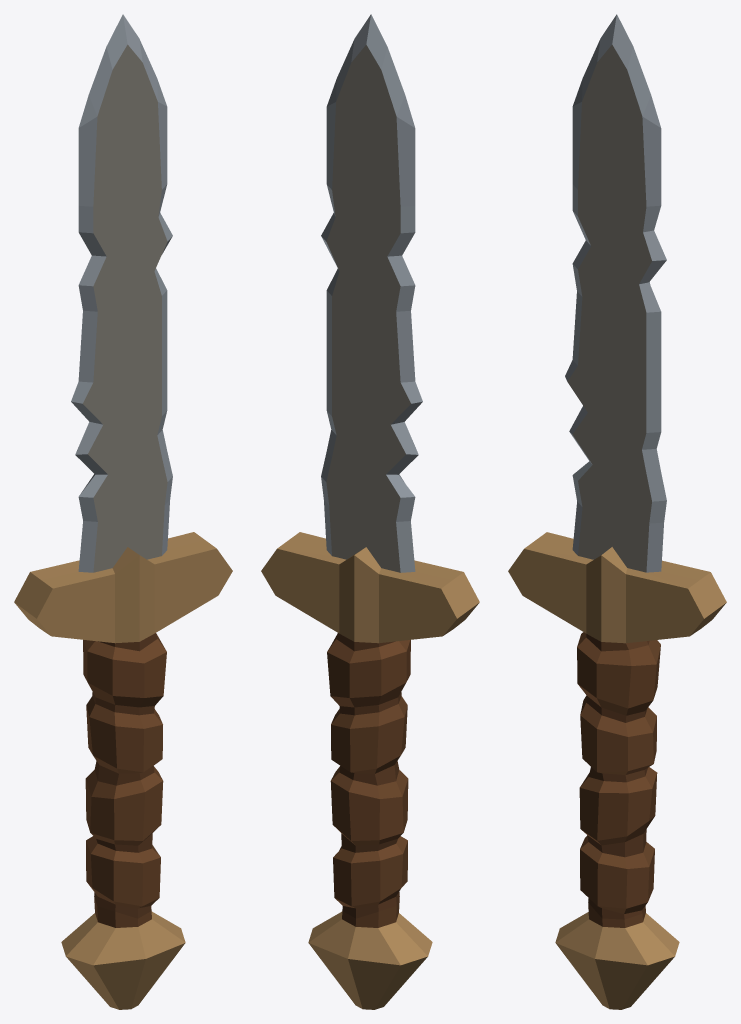
Rendered from cc0-dagger-lod1.glb.
3 views of the same model, side by side, from view 1: azimuth 30°, elevation 25°; view 2: azimuth 150°, elevation 25°; view 3: azimuth 330°, elevation 25° (orthographic).
Parts seen in each view (by area): view 1: part_0; view 2: part_0; view 3: part_0.
Part boxes in pixels (x1=…): part_0: x1=14, y1=14, x2=232, y2=1009; part_0: x1=261, y1=14, x2=479, y2=1009; part_0: x1=508, y1=14, x2=726, y2=1009.
Bounding box in the file's own units: 0.644 × 3.11 × 0.2564.
